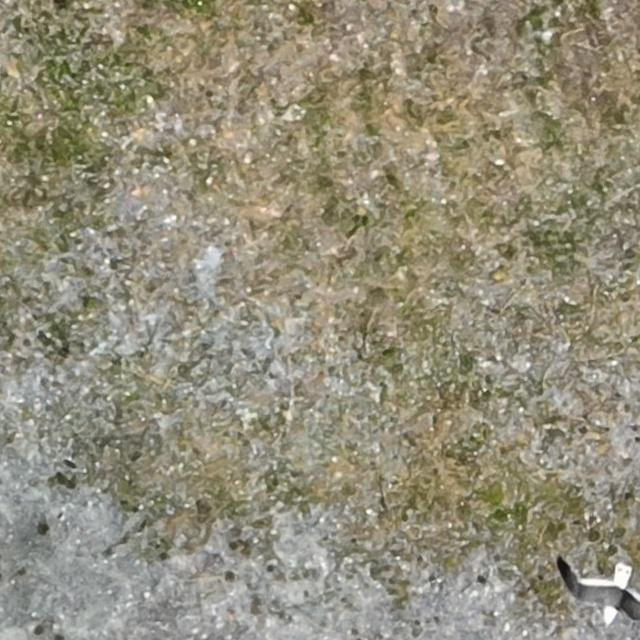F: (554, 558, 640, 622)
